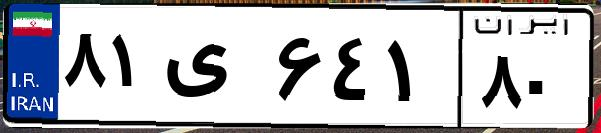0: (525, 38, 570, 115)
1: (385, 28, 445, 110), (110, 28, 158, 98)
4: (330, 28, 385, 110)
6: (270, 28, 330, 110)
8: (57, 26, 110, 100), (475, 38, 525, 113)
ی: (158, 20, 270, 120)
